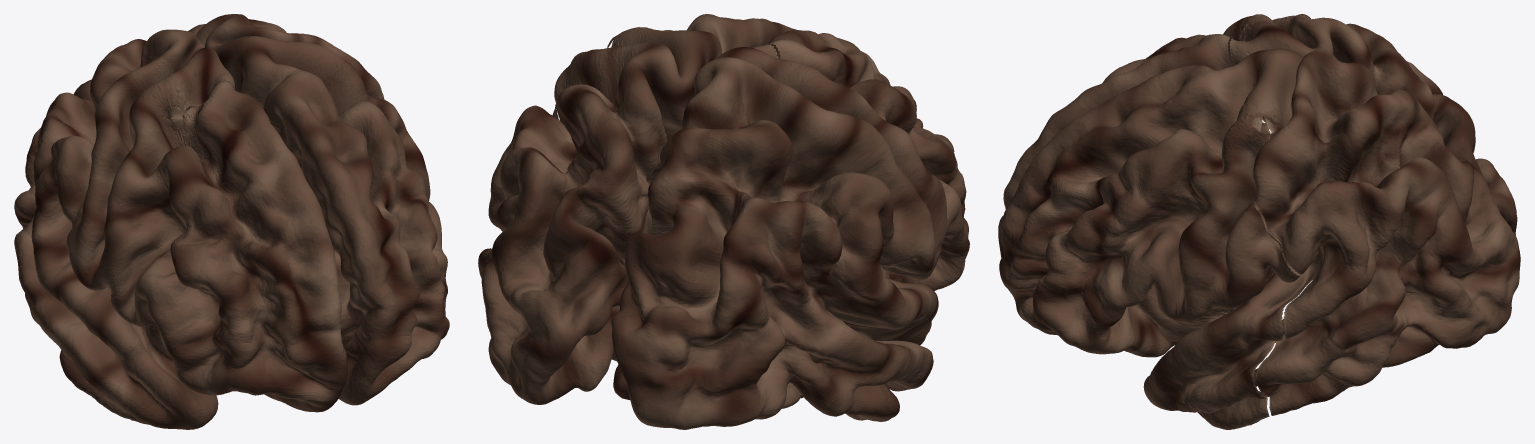
Rendered from full_brain_hires_draco.glb.
The picture shows the model from 3 angles, left to right: view 1: azimuth 30°, elevation 25°; view 2: azimuth 150°, elevation 25°; view 3: azimuth 270°, elevation 25°; orthographic projection. The views are drawn at different scales.
Parts seen in each view (by area): view 1: geometry_0; view 2: geometry_0; view 3: geometry_0.
Boxes of the visible parts, <box> form: geometry_0: <box>14,14,449,429</box>; geometry_0: <box>478,14,969,429</box>; geometry_0: <box>998,14,1520,429</box>.
Bounding box in the file's own units: 1.85 × 1.69 × 2.32.
Materials: 1 (1 with a texture image).
